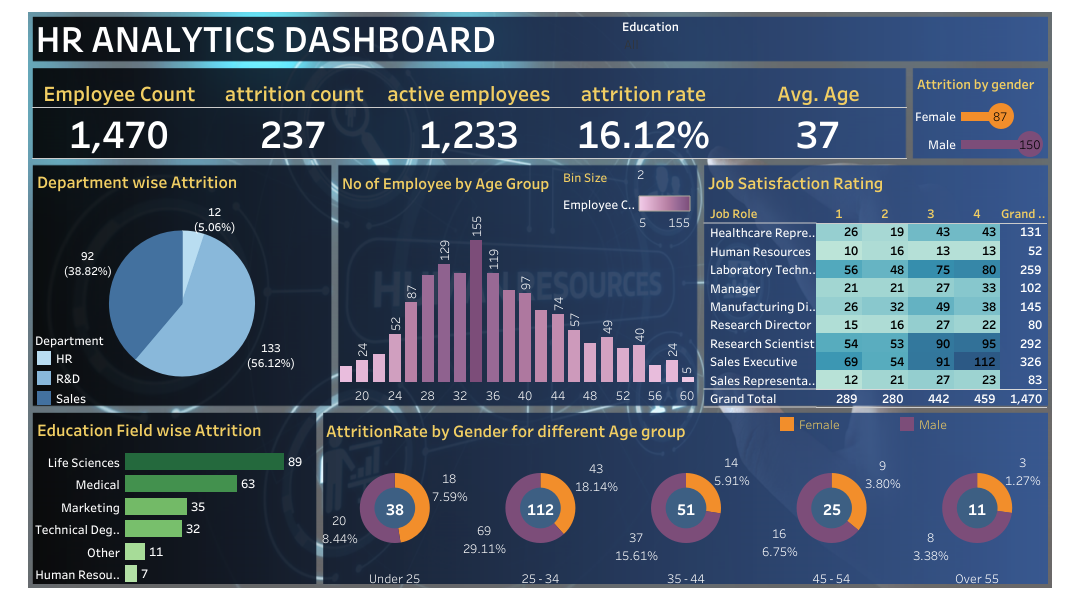

Layout of this report page (visuals, bound fields, positions):
{"tool":"tableau","page":{"name":"HR Anaytics Dashboard","canvas":[1080,600],"ordinal":0},"visuals":[{"type":"image","param":"Image/HR background final.png","box":[8,8,1064,584]},{"type":"filter","title":"Department wise Attrition","param":"[federated.1cpxf2g1t7bjd41du3ze91rabyoj].[none:Education:nk]","box":[622,16,147,44]},{"type":"text","box":[33,17,516,40]},{"type":"worksheet","title":"KPI","mark":"Automatic","box":[32,67,875,92]},{"type":"worksheet","title":"Attrition by gender","mark":"Automatic","rows":["Gender"],"cols":["Calculation_535083936648118272","Calculation_535083936648118272"],"box":[913,68,134,90]},{"type":"worksheet","title":"Department wise Attrition","mark":"Pie","box":[33,164,298,241]},{"type":"parameter","param":"[Parameters].[Parameter 1]","box":[563,165,133,23]},{"type":"worksheet","title":"Job Satisfaction Rating","mark":"Square","rows":["Job Role"],"cols":["Job Satisfaction"],"box":[704,165,343,243]},{"type":"worksheet","title":"No of Employee by Age Group","mark":"Bar","rows":["Employee Count"],"cols":["Age (bin)"],"box":[338,166,358,238]},{"type":"legend","title":"No of Employee by Age Group","param":"[federated.1cpxf2g1t7bjd41du3ze91rabyoj].[sum:Employee Count:qk]","box":[563,192,132,39]},{"type":"legend","title":"Department wise Attrition","param":"[federated.1cpxf2g1t7bjd41du3ze91rabyoj].[none:Department:nk]","box":[34,329,88,78]},{"type":"worksheet","title":"Education Field wise Attrition","mark":"Automatic","rows":["Education Field"],"cols":["Calculation_535083936648118272"],"box":[33,412,283,173]},{"type":"worksheet","title":"AttritionRate by Gender for different Age group","mark":"Pie","rows":["Calculation_535083936870793221","Calculation_535083936870793221"],"cols":["CF_age band"],"box":[322,413,728,170]},{"type":"legend","title":"AttritionRate by Gender for different Age group","param":"[federated.1cpxf2g1t7bjd41du3ze91rabyoj].[none:Gender:nk]","box":[777,414,249,24]}]}

Visuals, with their boxes in screenshot pixels (x1, y1, x2, y2), scaled from the page's 1080x600 canvas onto the 1079x599 screenshot:
image: crop(8, 8, 1071, 591)
"Department wise Attrition" filter: crop(621, 16, 768, 60)
text: crop(33, 17, 548, 57)
"KPI" worksheet: crop(32, 67, 906, 159)
"Attrition by gender" worksheet: crop(912, 68, 1046, 158)
"Department wise Attrition" worksheet (Pie marks): crop(33, 164, 331, 404)
parameter: crop(562, 165, 695, 188)
"Job Satisfaction Rating" worksheet (Square marks): crop(703, 165, 1046, 407)
"No of Employee by Age Group" worksheet (Bar marks): crop(338, 166, 695, 403)
"No of Employee by Age Group" legend: crop(562, 192, 694, 231)
"Department wise Attrition" legend: crop(34, 328, 122, 406)
"Education Field wise Attrition" worksheet: crop(33, 411, 316, 584)
"AttritionRate by Gender for different Age group" worksheet (Pie marks): crop(322, 412, 1049, 582)
"AttritionRate by Gender for different Age group" legend: crop(776, 413, 1025, 437)
